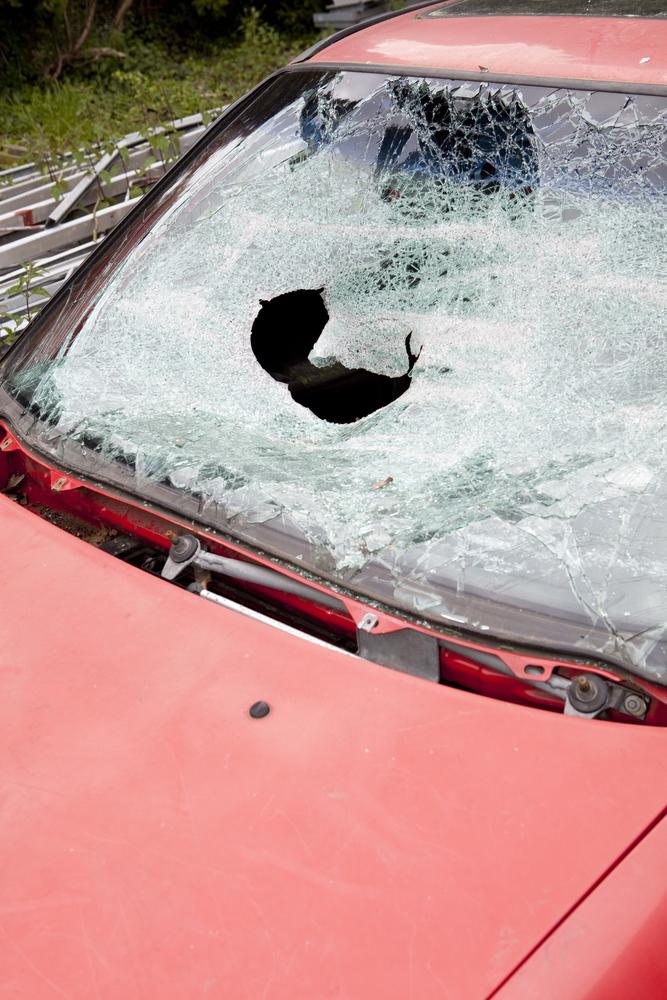glass shatter: (0, 71, 667, 682)
